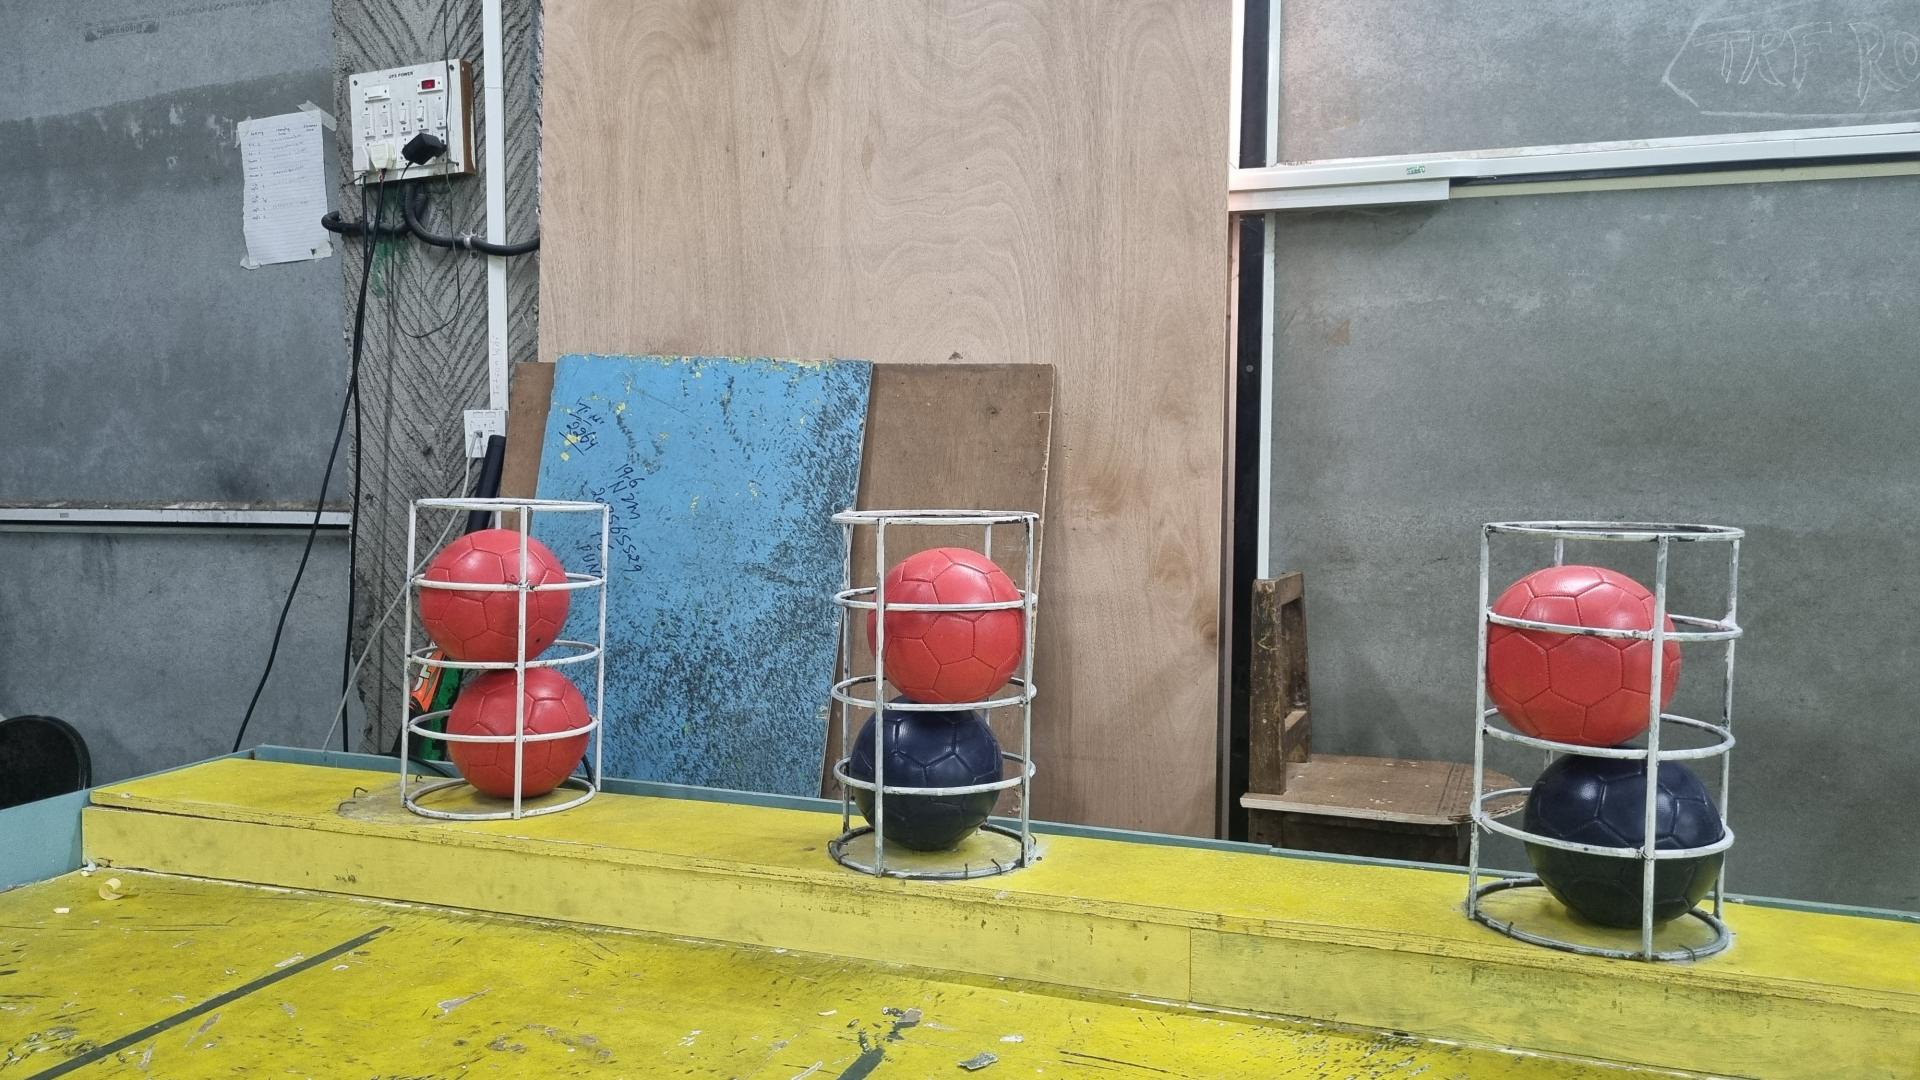dhoka: (1523, 757, 1729, 930), (844, 696, 1005, 855)
laale: (1485, 566, 1684, 749), (866, 547, 1027, 704), (417, 529, 570, 663), (446, 667, 592, 802)
